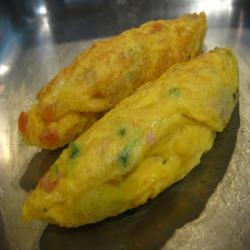omelette: (22, 45, 240, 228), (18, 13, 208, 154)
